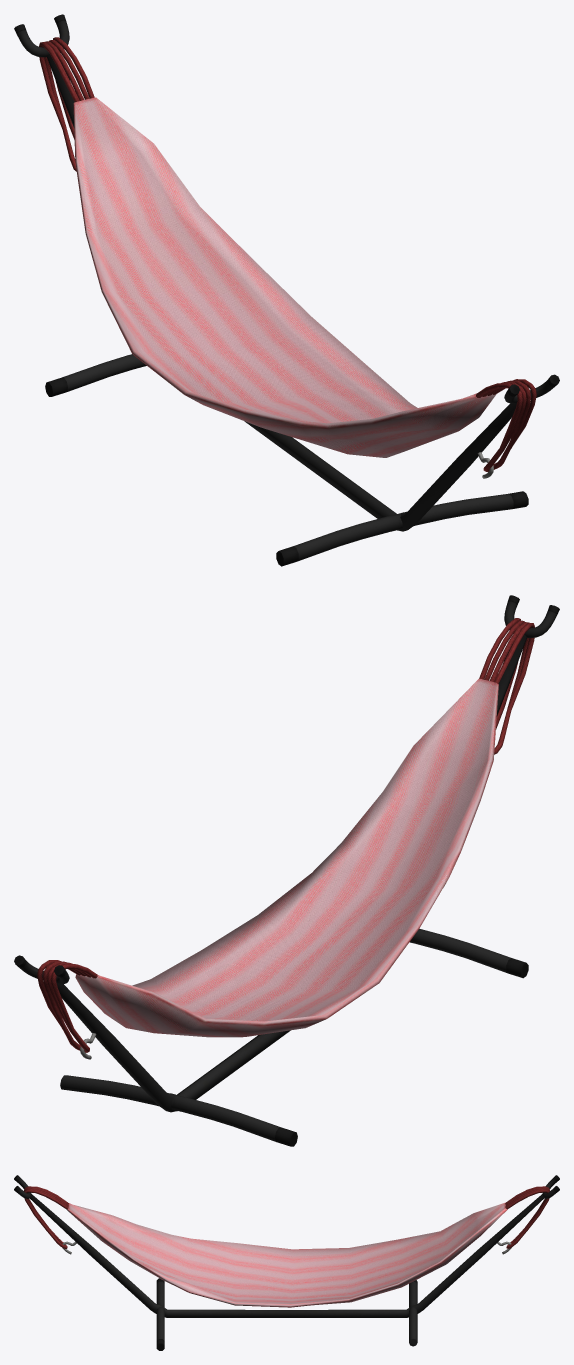
The model's file is hammock.FBX.
3 views of the same model, one above another, from view 1: azimuth 30°, elevation 25°; view 2: azimuth 150°, elevation 25°; view 3: azimuth 270°, elevation 25° (orthographic). The views are drawn at different scales.
Parts seen in each view (by area): view 1: Hammock (×2), Frame, Rope; view 2: Hammock (×2), Frame, Rope; view 3: Hammock (×2), Frame, Rope.
Part boxes in pixels (x1,y1,x2,y2): Hammock (×2): (47, 54, 516, 531); Frame: (14, 14, 559, 566); Rope: (39, 37, 536, 471); Hammock (×2): (57, 635, 526, 1112); Frame: (14, 595, 559, 1146); Rope: (37, 618, 534, 1052); Hammock (×2): (29, 1194, 544, 1317); Frame: (14, 1175, 559, 1350); Rope: (24, 1186, 549, 1248).
Bounding box in the file's own units: 245 × 866 × 241.
